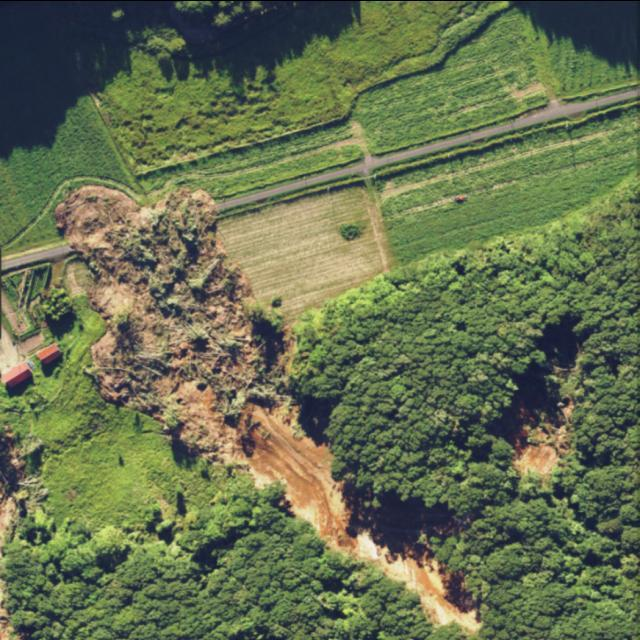landslide: (56, 184, 479, 633)
